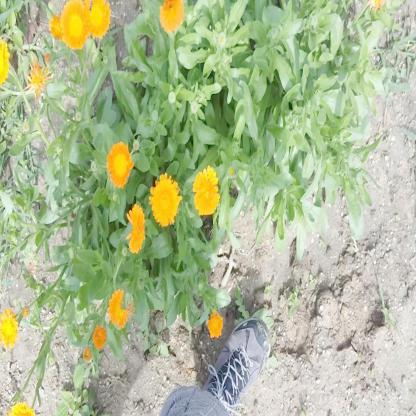marigold: (150, 171, 178, 228), (60, 0, 89, 48), (192, 168, 218, 214), (105, 140, 129, 184), (84, 0, 111, 37), (106, 290, 132, 327), (159, 1, 184, 32), (1, 308, 20, 345)
